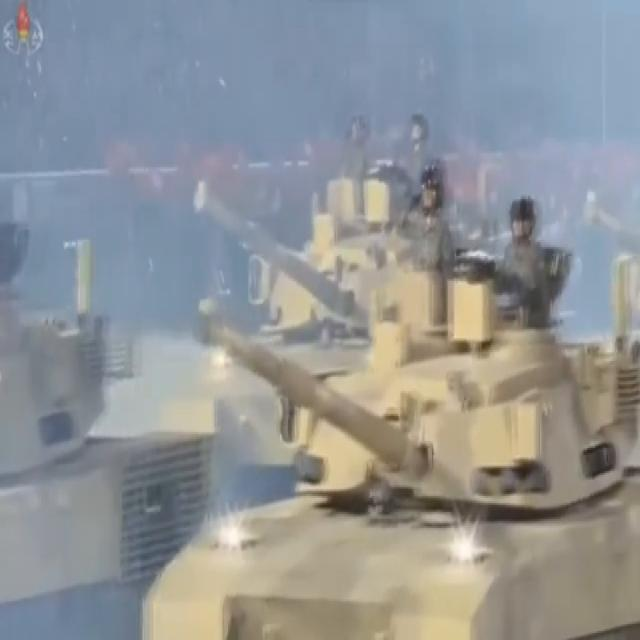north tank: (138, 258, 640, 640), (199, 98, 467, 449), (3, 220, 225, 640)
